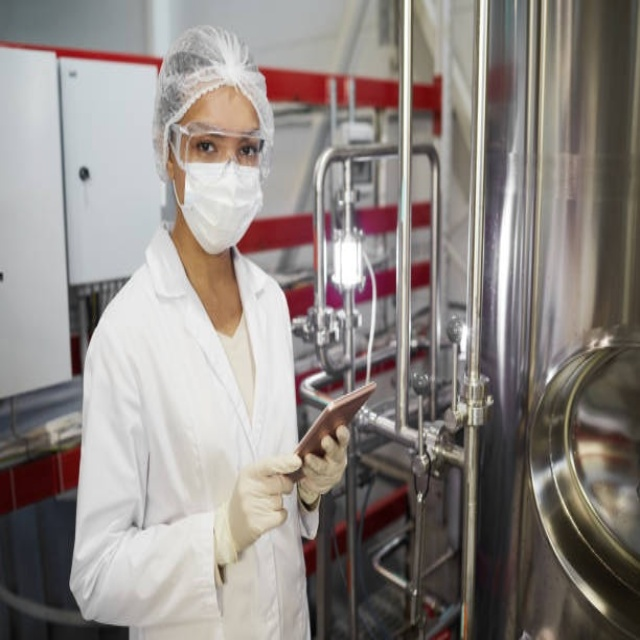Gafas: (169, 121, 269, 178)
Guantes: (218, 455, 299, 564), (295, 425, 351, 510)
Mascara: (172, 137, 264, 252)
